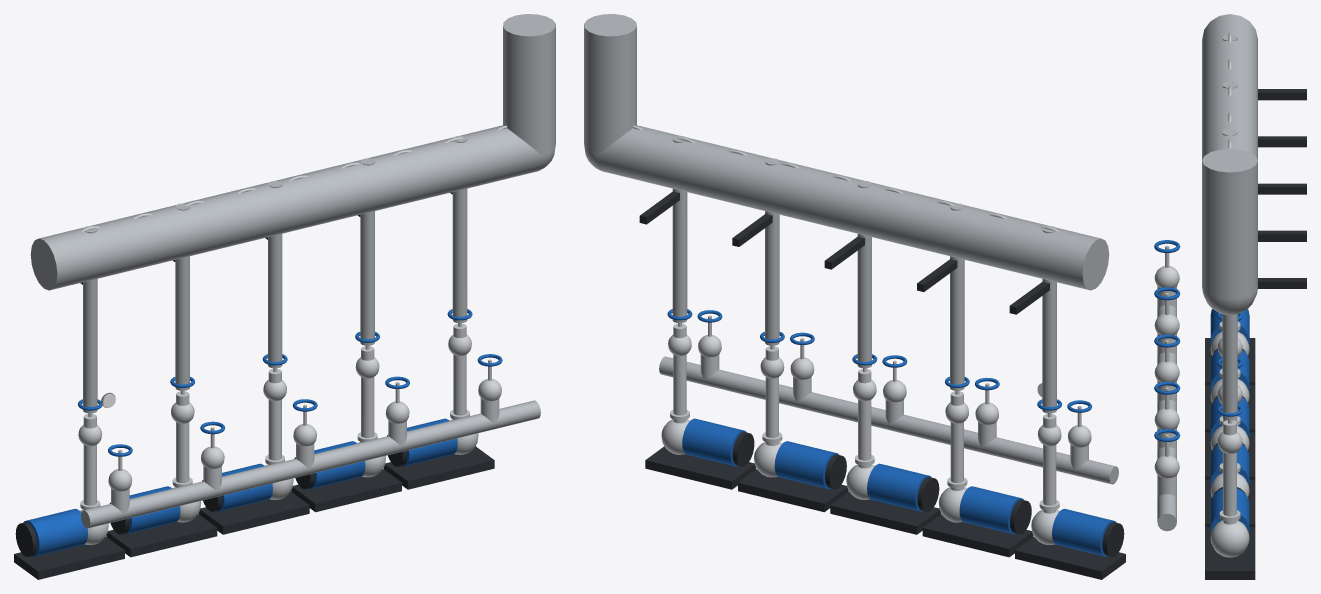
File: Condensate return.glb
3 renders of one model, left to right at view 1: azimuth 30°, elevation 25°; view 2: azimuth 150°, elevation 25°; view 3: azimuth 270°, elevation 25°, orthographic. The views are drawn at different scales.
Parts seen in each view (by area): view 1: Asset; view 2: Asset; view 3: Asset.
Part boxes in pixels (left/top/right/bottom): Asset: left=14, top=14, right=555, bottom=579; Asset: left=584, top=14, right=1125, bottom=579; Asset: left=1154, top=14, right=1306, bottom=579.
Bounding box in the file's own units: 4.57 × 3.5 × 1.09.
